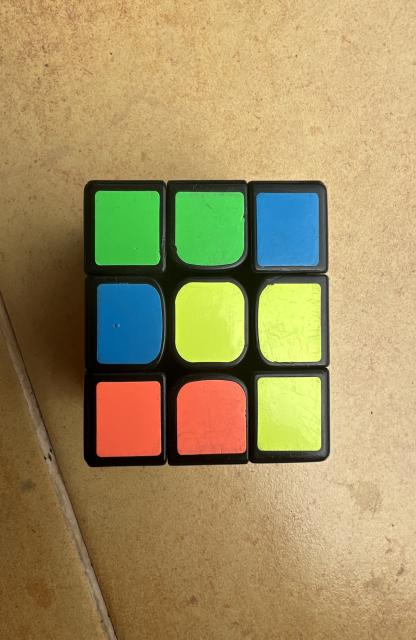Blue: (96, 284, 162, 364), (257, 192, 320, 266)
Green: (176, 191, 245, 266), (94, 190, 160, 265)
Orange: (177, 380, 246, 455), (96, 381, 161, 458)
Yellow: (176, 282, 245, 362), (258, 284, 322, 362), (258, 376, 322, 451)
